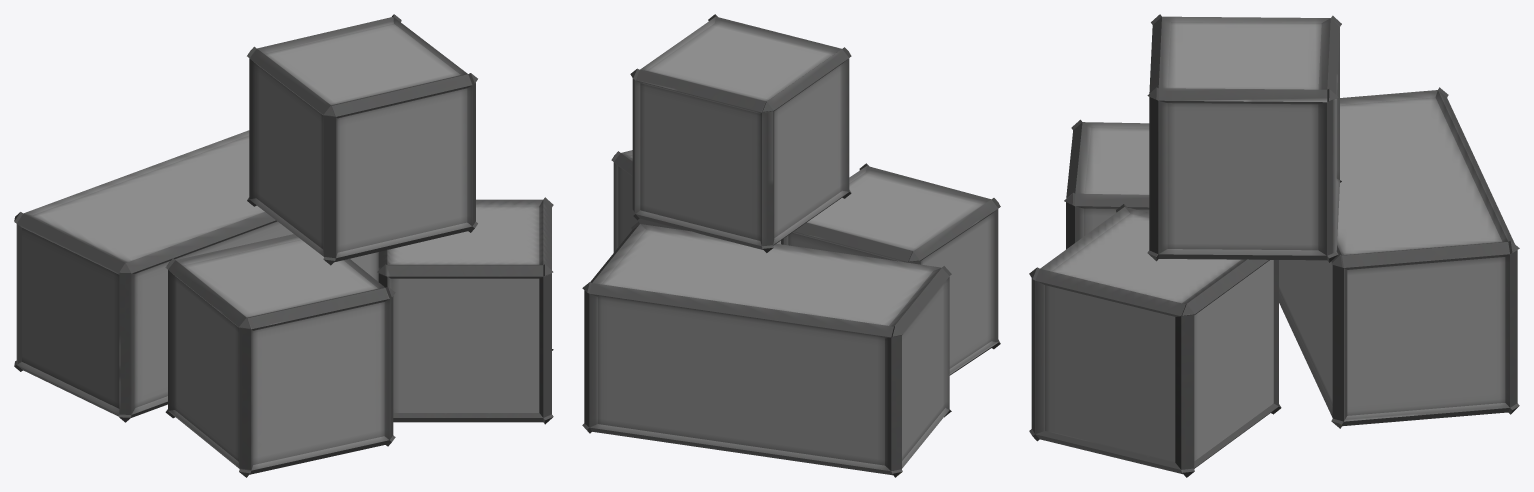
File: Storage_Crates_02.fbx
The picture shows the model from 3 angles, left to right: view 1: azimuth 30°, elevation 25°; view 2: azimuth 150°, elevation 25°; view 3: azimuth 270°, elevation 25°; orthographic projection. The views are drawn at different scales.
Visible parts, largest first — view 1: Storage_Crates_02; view 2: Storage_Crates_02; view 3: Storage_Crates_02.
Part boxes in pixels (bbox=[...]): Storage_Crates_02: bbox=[14, 14, 553, 477]; Storage_Crates_02: bbox=[582, 14, 1000, 477]; Storage_Crates_02: bbox=[1029, 14, 1519, 477].
Size of the model in its own units: 738 by 529 by 684.
